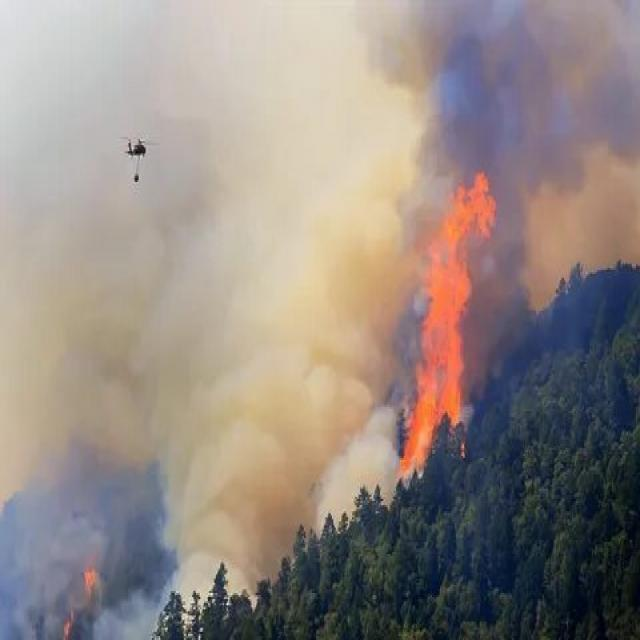Fire: (362, 150, 514, 510)
Smoke: (1, 19, 364, 565)
